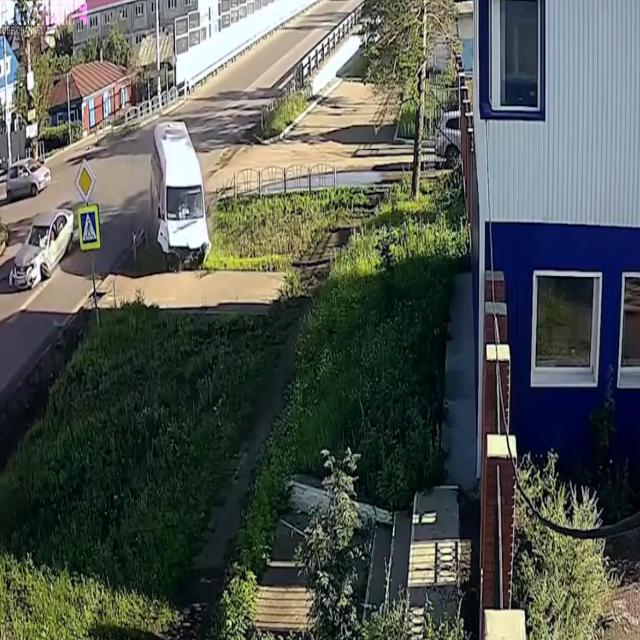accident: (140, 115, 213, 279), (7, 201, 78, 295)
